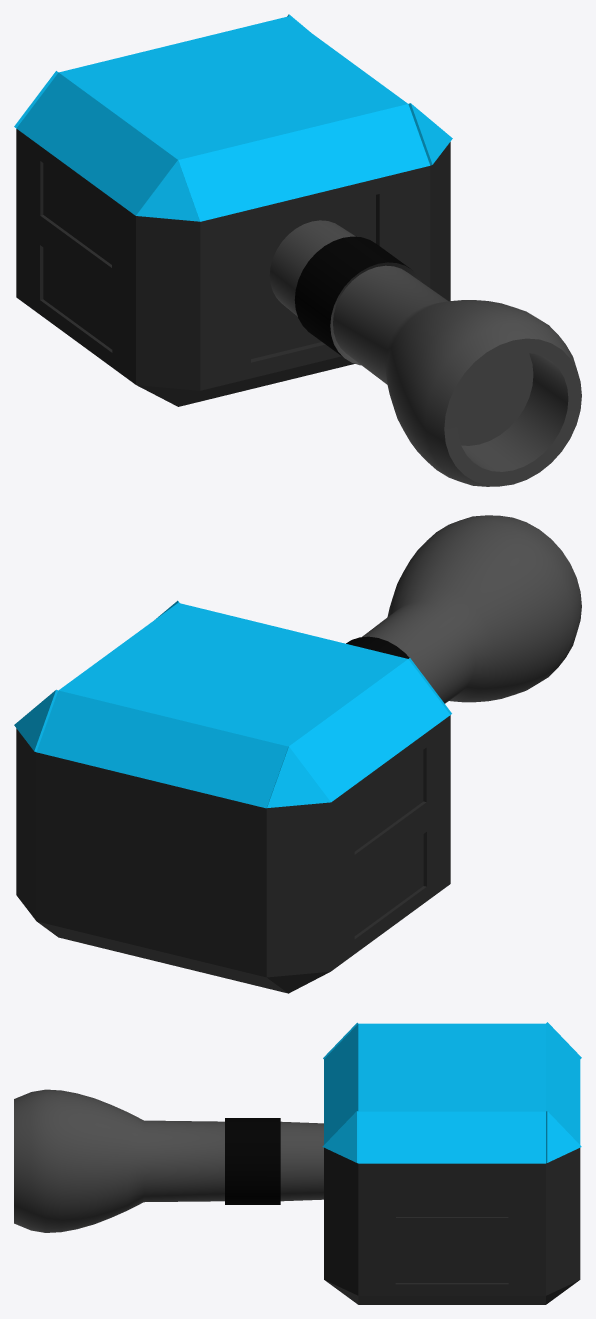
The model's file is 5gun.fbx.
3 views of the same model, one above another, from view 1: azimuth 30°, elevation 25°; view 2: azimuth 150°, elevation 25°; view 3: azimuth 270°, elevation 25° (orthographic). The views are drawn at different scales.
Visible parts, largest first — view 1: Cube 5, gun 5; view 2: Cube 5, gun 5; view 3: Cube 5, gun 5.
Boxes of the visible parts, x1,y1,x2,y2 form: Cube 5: (14, 14, 452, 406); gun 5: (269, 220, 581, 486); Cube 5: (14, 600, 451, 993); gun 5: (346, 515, 581, 703); Cube 5: (322, 1022, 581, 1304); gun 5: (14, 1089, 323, 1232).
Bounding box in the file's own units: 121 × 90.83 × 240.
